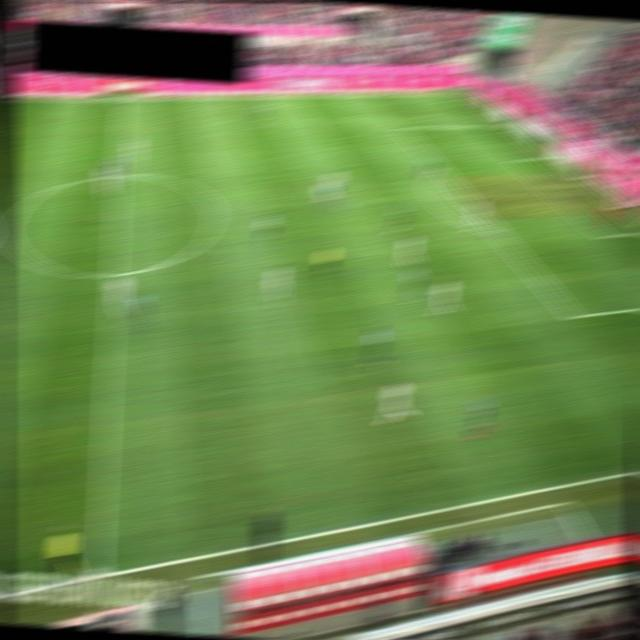bigarea_bottom_inner: (563, 309, 584, 321)
bigarea_top_inner: (391, 123, 412, 134)
bigarea_top_outter: (496, 118, 517, 129)
bottom_arc_area_intersection: (485, 225, 506, 237)
corner: (454, 87, 475, 98)
halfcircle_bottom: (102, 270, 123, 281)
halfcircle_top: (108, 170, 128, 181)
midline_bottom_intersection: (84, 567, 115, 585)
midline_top_intersection: (112, 93, 133, 105)
smallarea_bottom_inner: (593, 229, 614, 241)
smallarea_top_inner: (505, 155, 525, 167)
smallarea_top_outter: (540, 152, 560, 163)
top_arc_area_intersection: (428, 163, 448, 175)
